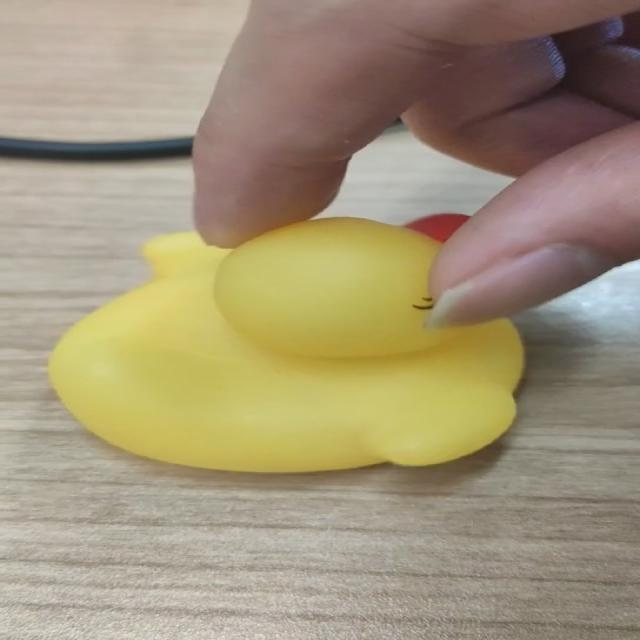rubber-duck: (48, 217, 521, 470)
